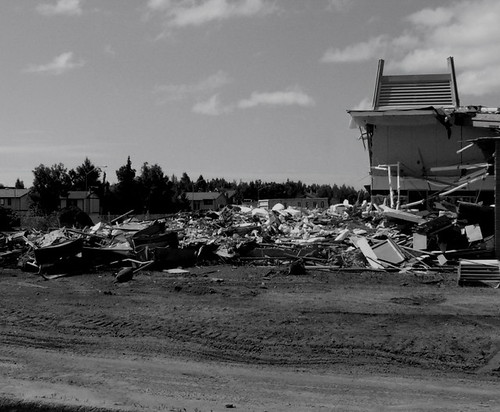building: (368, 38, 500, 257)
debris: (20, 191, 410, 283)
sky: (1, 1, 367, 159)
